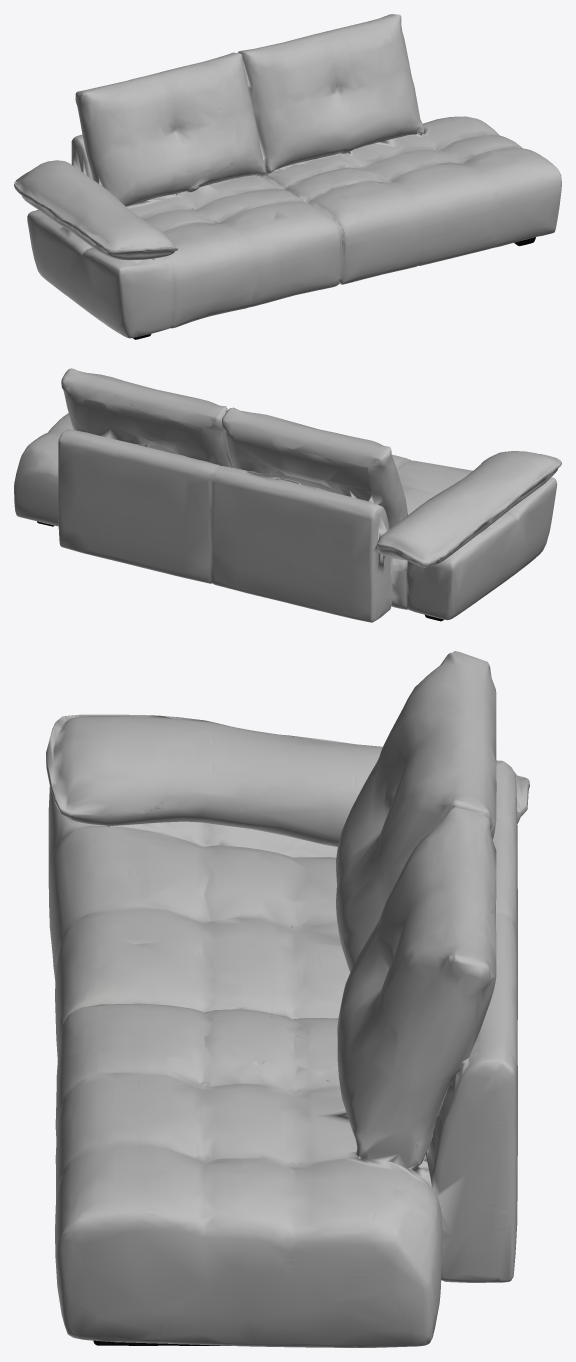
The model's file is vhaus-2233a-sofa.glb.
3 views of the same model, one above another, from view 1: azimuth 30°, elevation 25°; view 2: azimuth 150°, elevation 25°; view 3: azimuth 270°, elevation 25° (orthographic). The views are drawn at different scales.
Visible parts, largest first — view 1: geometry_0; view 2: geometry_0; view 3: geometry_0.
Part boxes in pixels (x1,y1,x2,y2): geometry_0: [14, 14, 561, 339]; geometry_0: [14, 368, 561, 622]; geometry_0: [46, 651, 529, 1347].
Size of the model in its own units: 0.996 by 0.3661 by 0.4587.
Materials: 1 (1 with a texture image).
